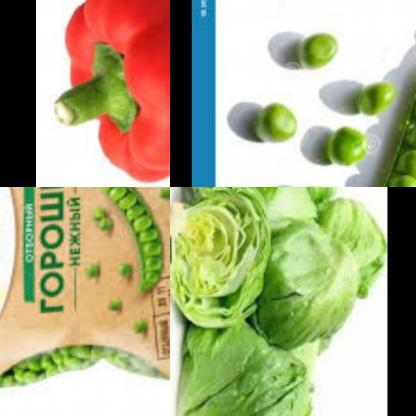bell pepper: (43, 0, 170, 187)
peas: (2, 335, 150, 400), (352, 49, 416, 187), (94, 187, 155, 295), (343, 64, 394, 126), (254, 90, 302, 153), (299, 26, 340, 86), (78, 281, 128, 330), (321, 122, 365, 177), (118, 314, 151, 349), (76, 266, 106, 295), (85, 211, 114, 241), (152, 187, 170, 212), (152, 253, 170, 277), (118, 264, 133, 286)
salad: (170, 187, 275, 339), (172, 313, 326, 416), (262, 228, 363, 363), (315, 199, 388, 302), (254, 187, 326, 240), (294, 187, 347, 214)
